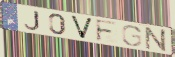0: (48, 13, 66, 36)
F: (95, 19, 119, 43)
G: (121, 25, 144, 47)
J: (23, 11, 41, 31)
N: (145, 26, 169, 54)
V: (69, 14, 95, 41)
